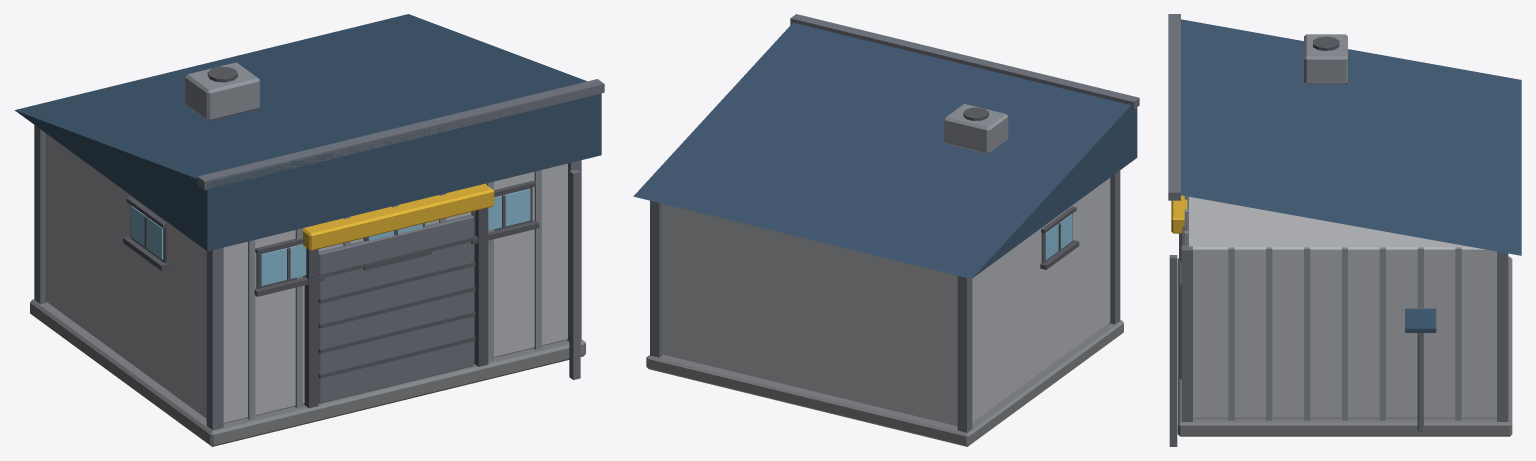
The model's file is bld_warehouse.glb.
The picture shows the model from 3 angles, left to right: view 1: azimuth 30°, elevation 25°; view 2: azimuth 150°, elevation 25°; view 3: azimuth 270°, elevation 25°; orthographic projection. The views are drawn at different scales.
Parts seen in each view (by area): view 1: bld_warehouse; view 2: bld_warehouse; view 3: bld_warehouse.
Part boxes in pixels (x1,y1,x2,y2): bld_warehouse: (14,14,604,446); bld_warehouse: (633,14,1139,446); bld_warehouse: (1168,14,1521,446).
Size of the model in its own units: 7.1 by 4.95 by 5.6.
